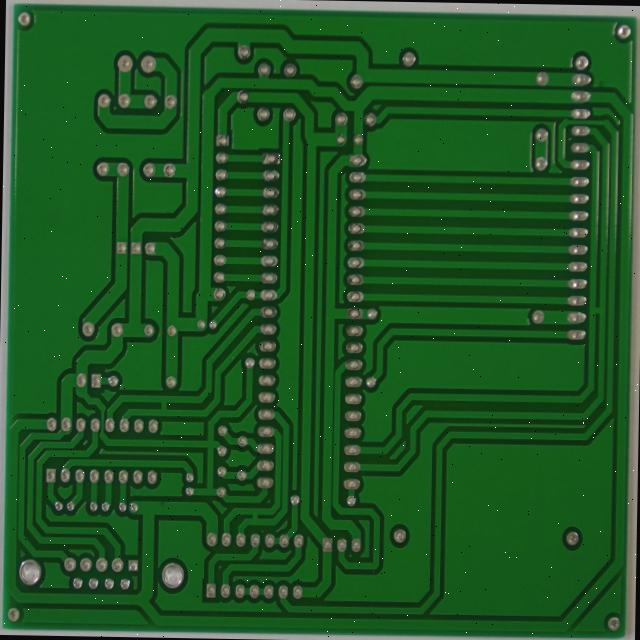short: (107, 447, 130, 473), (583, 340, 603, 362), (208, 573, 227, 595)
